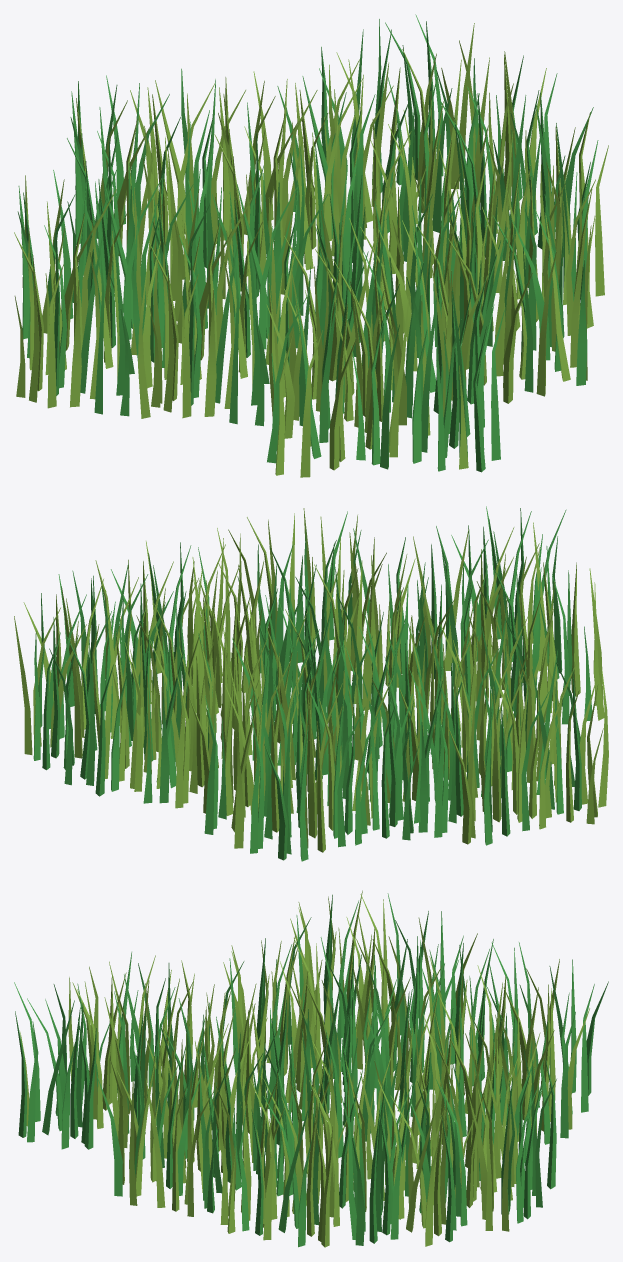
File: Grass.glb
The picture shows the model from 3 angles, top to bottom: view 1: azimuth 30°, elevation 25°; view 2: azimuth 150°, elevation 25°; view 3: azimuth 270°, elevation 25°; orthographic projection. The views are drawn at different scales.
Visible parts, largest first — view 1: Node; view 2: Node; view 3: Node.
Part boxes in pixels (x1,y1,x2,y2): Node: [14, 14, 608, 477]; Node: [14, 506, 608, 861]; Node: [14, 890, 608, 1247].
Size of the model in its own units: 2.78 by 0.8966 by 2.84.
